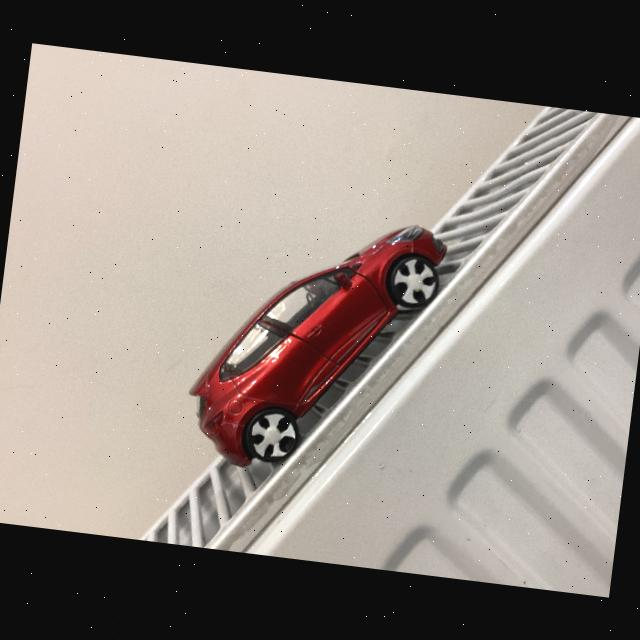Yanlis_Jant: (246, 408, 299, 462), (389, 254, 440, 308)
